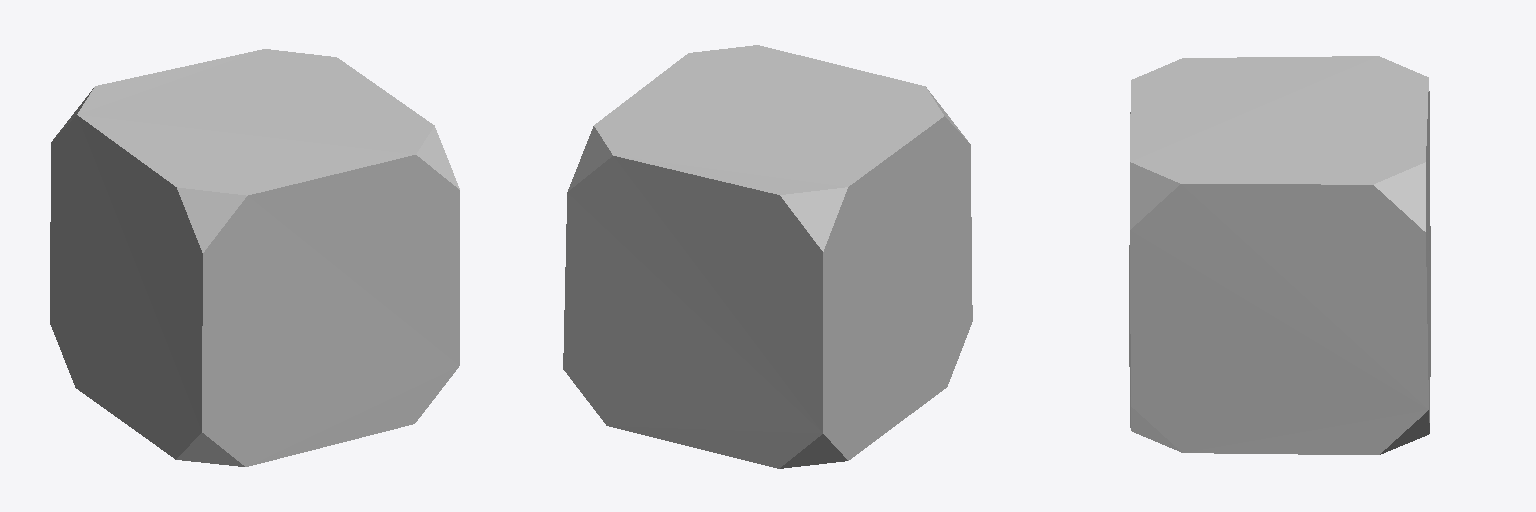
File: cube_cutted_smoothed_10.obj
3 views of the same model, side by side, from view 1: azimuth 30°, elevation 25°; view 2: azimuth 150°, elevation 25°; view 3: azimuth 270°, elevation 25° (orthographic).
Size of the model in its own units: 1.42 by 1.42 by 1.42.